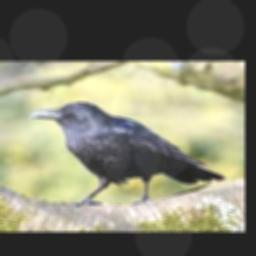Crow: (29, 102, 225, 206)
